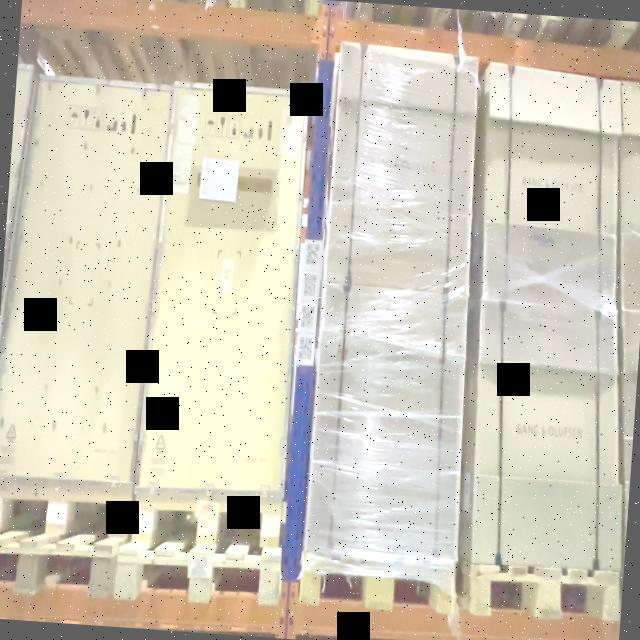box: (135, 81, 309, 493), (305, 282, 468, 562), (471, 300, 622, 573), (325, 42, 480, 293), (481, 63, 622, 311)
